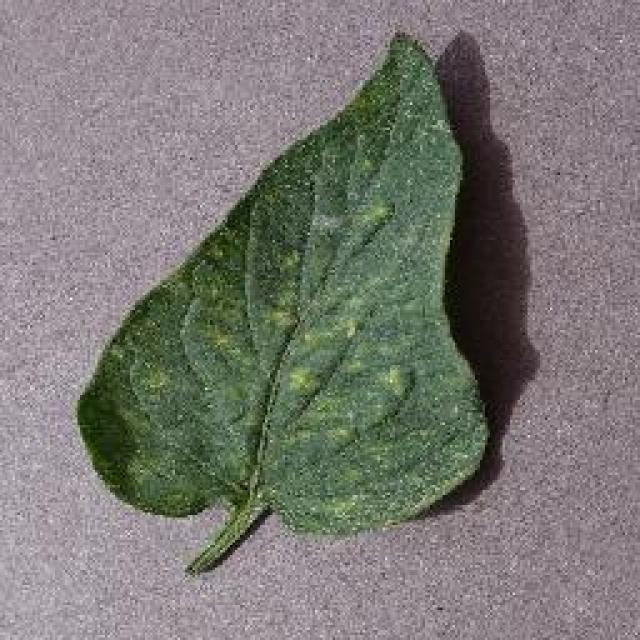Tomato spider mites leaf: (76, 27, 486, 536)
